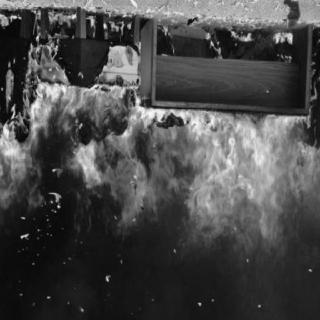Fire: (1, 14, 317, 270)
